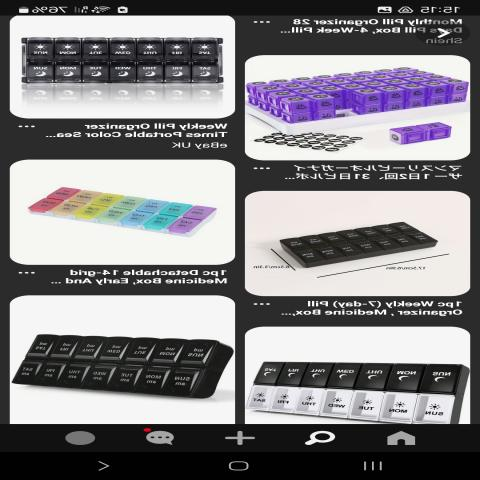PillBox: (243, 345, 467, 428), (8, 22, 229, 102), (19, 323, 231, 402), (265, 209, 442, 285)
